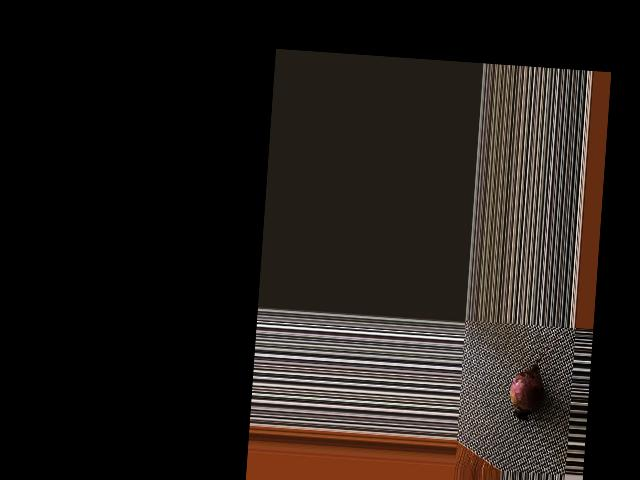beet: (508, 334, 561, 425)
